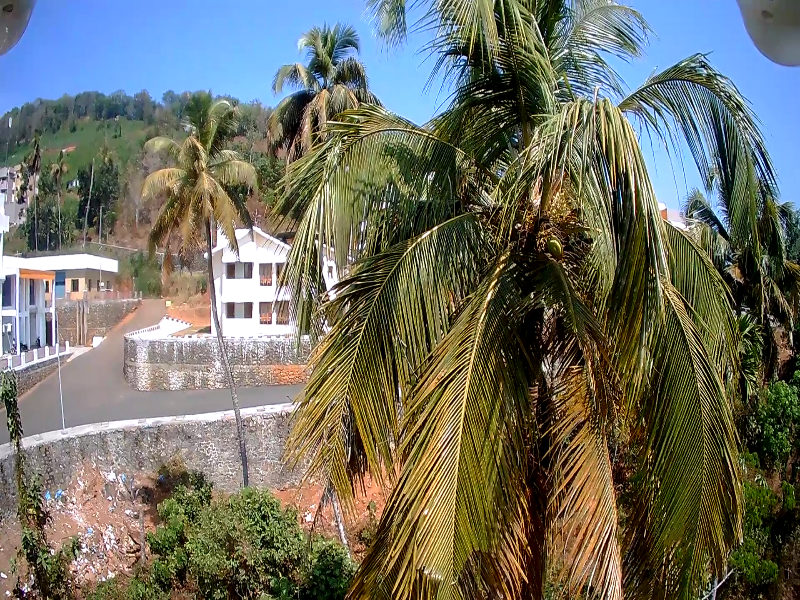coconut: (547, 235, 561, 261)
